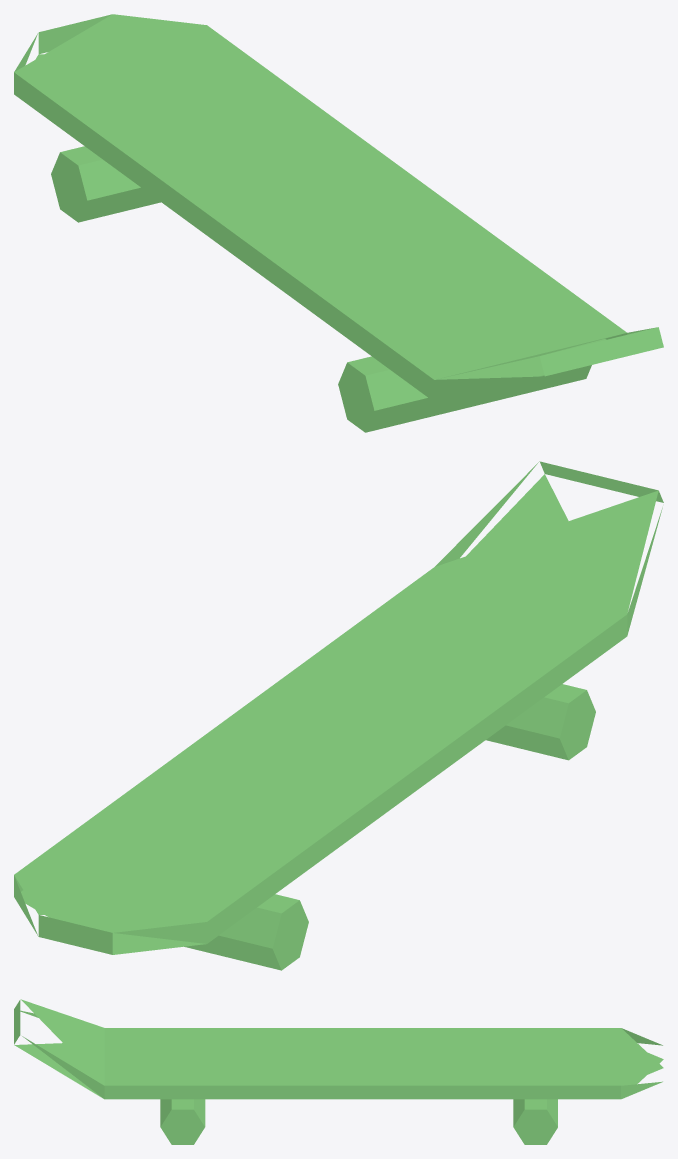
File: board.glb
The picture shows the model from 3 angles, top to bottom: view 1: azimuth 30°, elevation 25°; view 2: azimuth 150°, elevation 25°; view 3: azimuth 270°, elevation 25°; orthographic projection. The views are drawn at different scales.
Parts seen in each view (by area): view 1: board; view 2: board; view 3: board.
Part boxes in pixels (left/top/right/bottom): board: left=14, top=14, right=663, bottom=432; board: left=14, top=461, right=663, bottom=970; board: left=14, top=999, right=663, bottom=1144.
Size of the model in its own units: 27.08 by 18.06 by 112.
